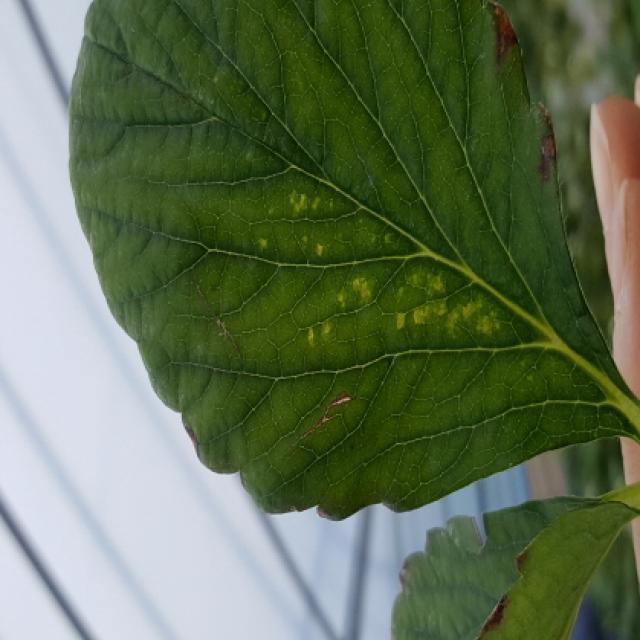Angular Leafspot: (238, 146, 526, 355)
